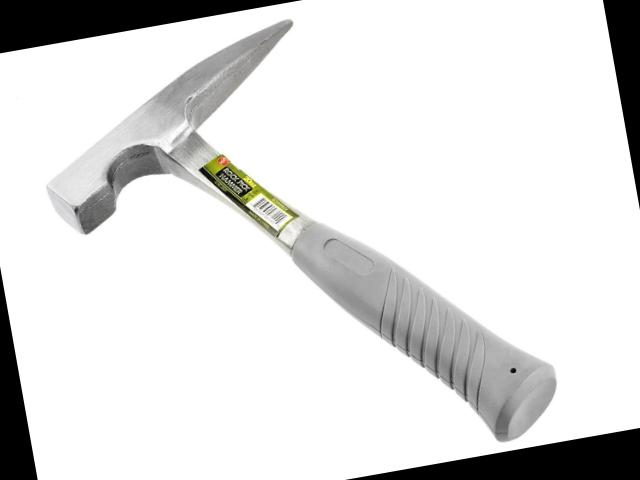hammer: (22, 0, 565, 480)
